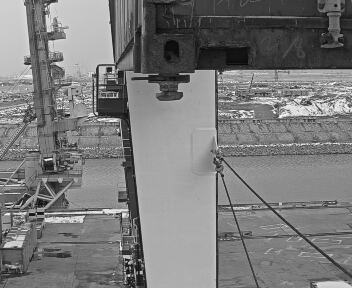twist_lock_1: (141, 66, 198, 111)
